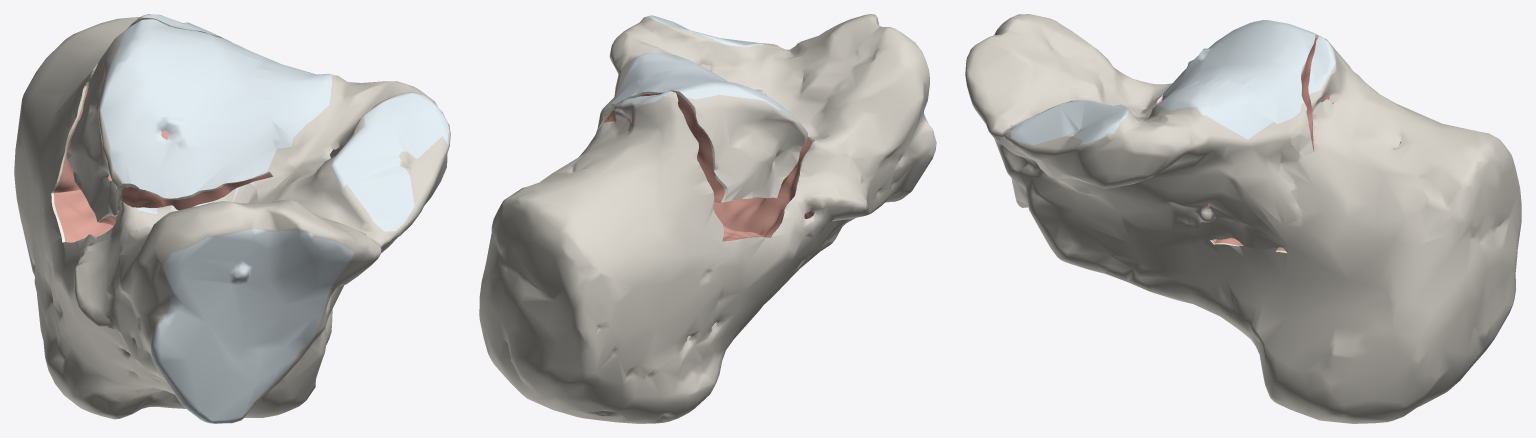
The model's file is EL-JD-sev_elderly.glb.
The picture shows the model from 3 angles, left to right: view 1: azimuth 30°, elevation 25°; view 2: azimuth 150°, elevation 25°; view 3: azimuth 270°, elevation 25°; orthographic projection. The views are drawn at different scales.
Visible parts, largest first — view 1: calcaneus: sustentacular fragment, calcaneus: tuberosity (driven up), calcaneus: depressed joint fragment (outer two-thirds of the; view 2: calcaneus: tuberosity (driven up), calcaneus: sustentacular fragment, calcaneus: depressed joint fragment (outer two-thirds of the; view 3: calcaneus: tuberosity (driven up), calcaneus: sustentacular fragment, calcaneus: depressed joint fragment (outer two-thirds of the.
Boxes of the visible parts, x1,y1,x2,y2 form: calcaneus: sustentacular fragment: (107, 57, 450, 423); calcaneus: tuberosity (driven up): (14, 14, 332, 419); calcaneus: depressed joint fragment (outer two-thirds of the: (67, 19, 277, 225); calcaneus: tuberosity (driven up): (479, 91, 867, 423); calcaneus: sustentacular fragment: (600, 14, 936, 253); calcaneus: depressed joint fragment (outer two-thirds of the: (597, 64, 807, 202); calcaneus: tuberosity (driven up): (1107, 36, 1521, 423); calcaneus: sustentacular fragment: (965, 14, 1305, 274); calcaneus: depressed joint fragment (outer two-thirds of the: (1162, 20, 1318, 216).
Bounding box in the file's own units: 0.0475 × 0.0513 × 0.0757.
